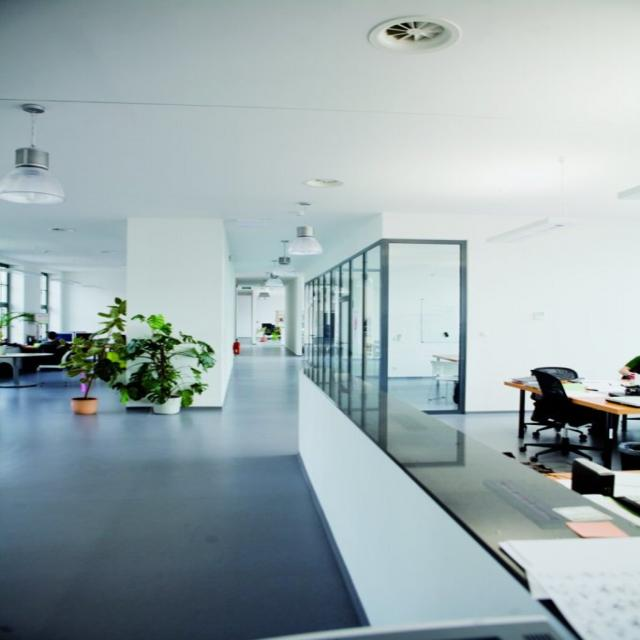chair: (520, 371, 597, 468)
desk: (516, 378, 634, 480)
